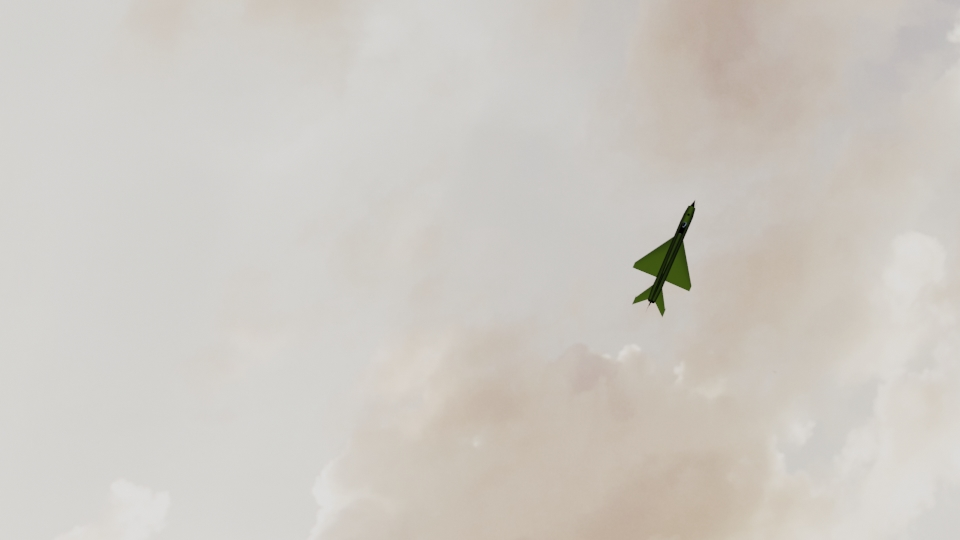plane: (630, 199, 697, 319)
